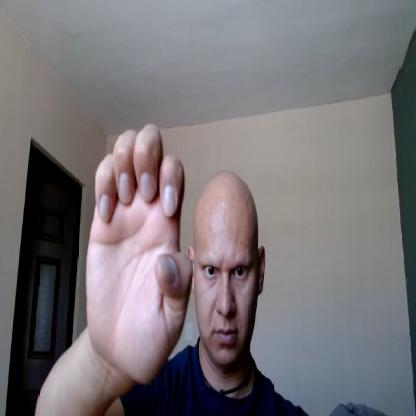E: (88, 122, 196, 380)
